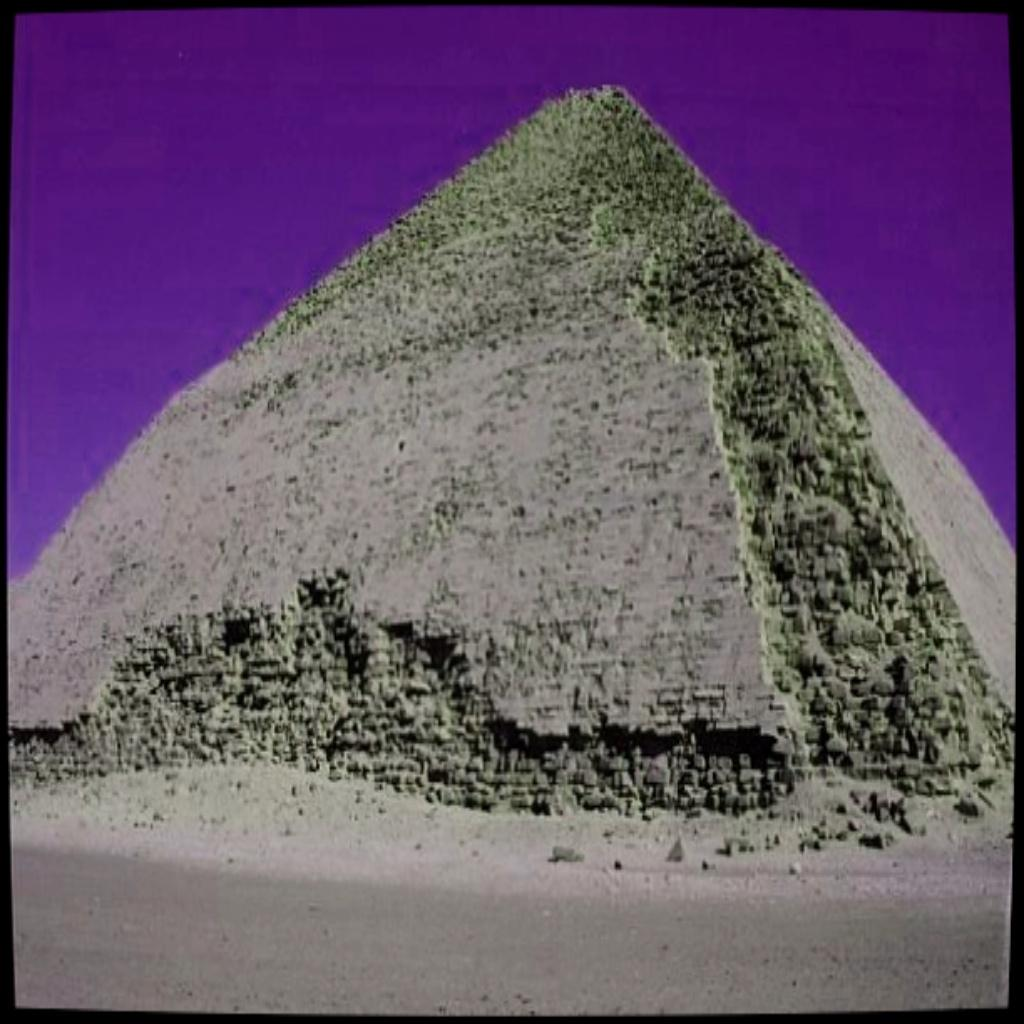Bent Pyramid of King Sneferu: (8, 78, 1012, 834)
